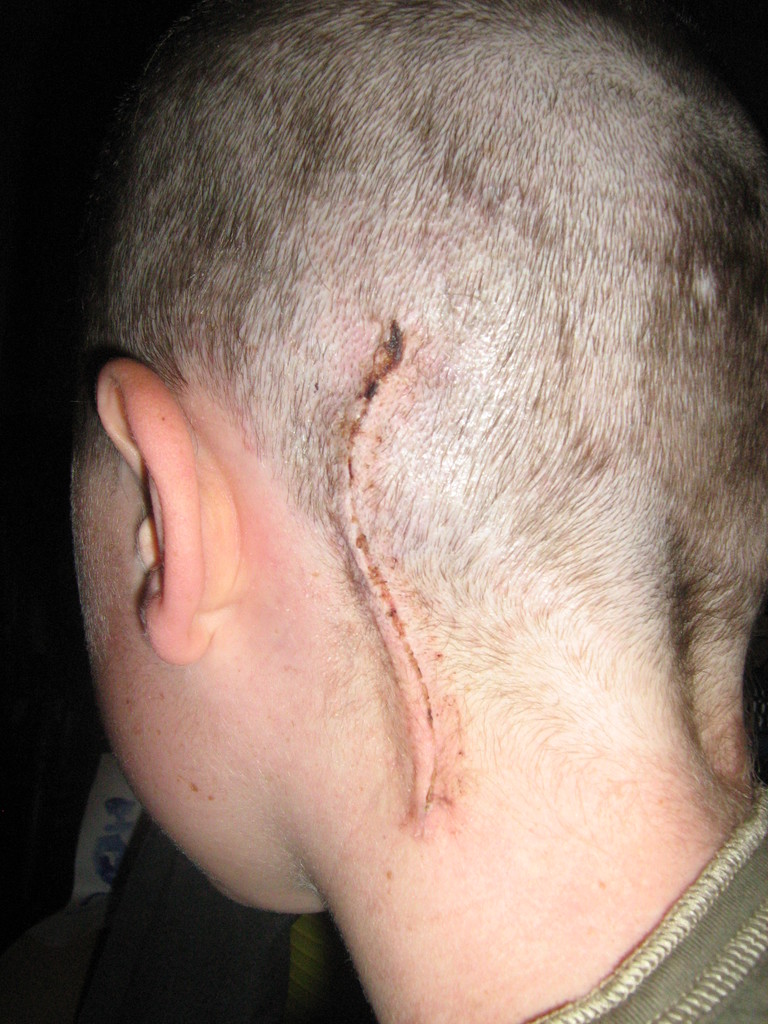Person: (69, 0, 767, 1023)
